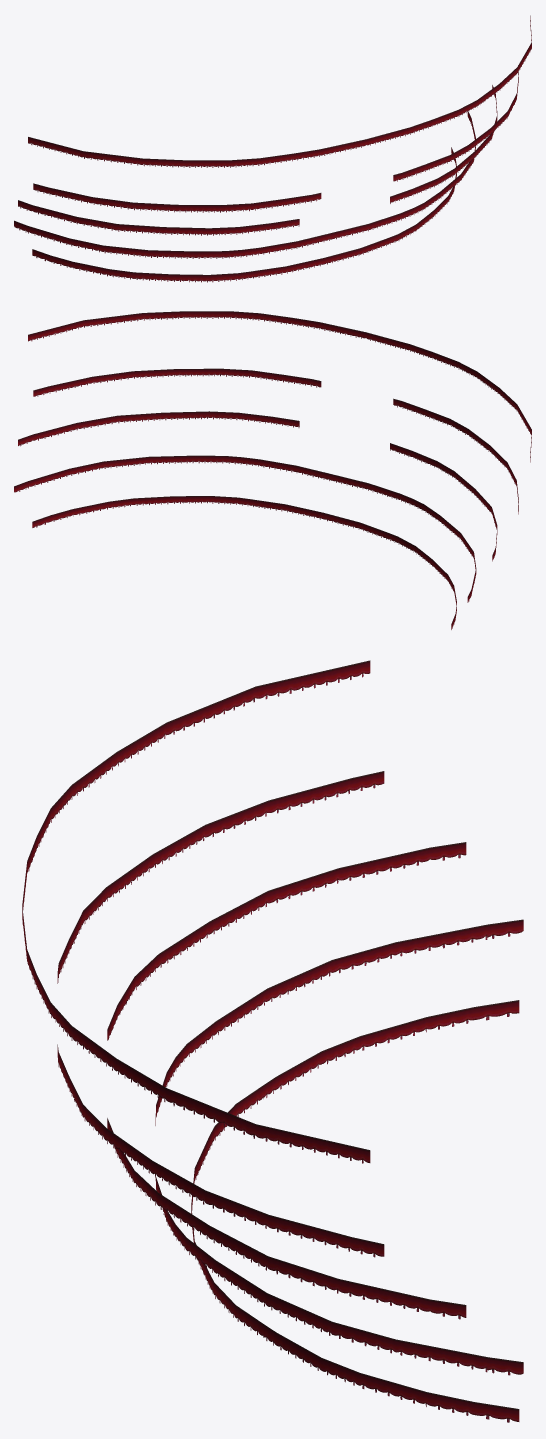
Rendered from tendine (2).fbx.
The picture shows the model from 3 angles, top to bottom: view 1: azimuth 30°, elevation 25°; view 2: azimuth 150°, elevation 25°; view 3: azimuth 270°, elevation 25°; orthographic projection. The views are drawn at different scales.
Parts seen in each view (by area): view 1: ultimo piano loggette.004; view 2: ultimo piano loggette.004; view 3: ultimo piano loggette.004.
Part boxes in pixels (bbox=[...]): ultimo piano loggette.004: bbox=[14, 15, 531, 282]; ultimo piano loggette.004: bbox=[14, 311, 531, 629]; ultimo piano loggette.004: bbox=[22, 660, 523, 1422].
Size of the model in its own units: 68.25 by 20.45 by 29.52.
1 material, 1 textured.
